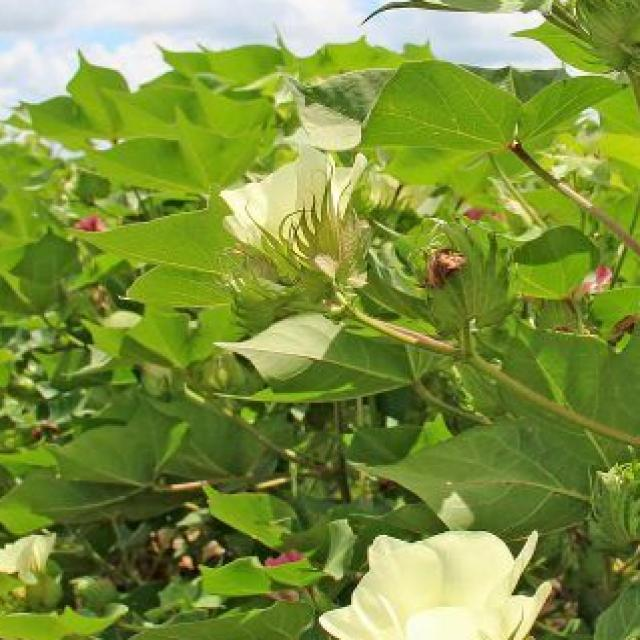Healthy Leaf: (42, 16, 640, 626)
